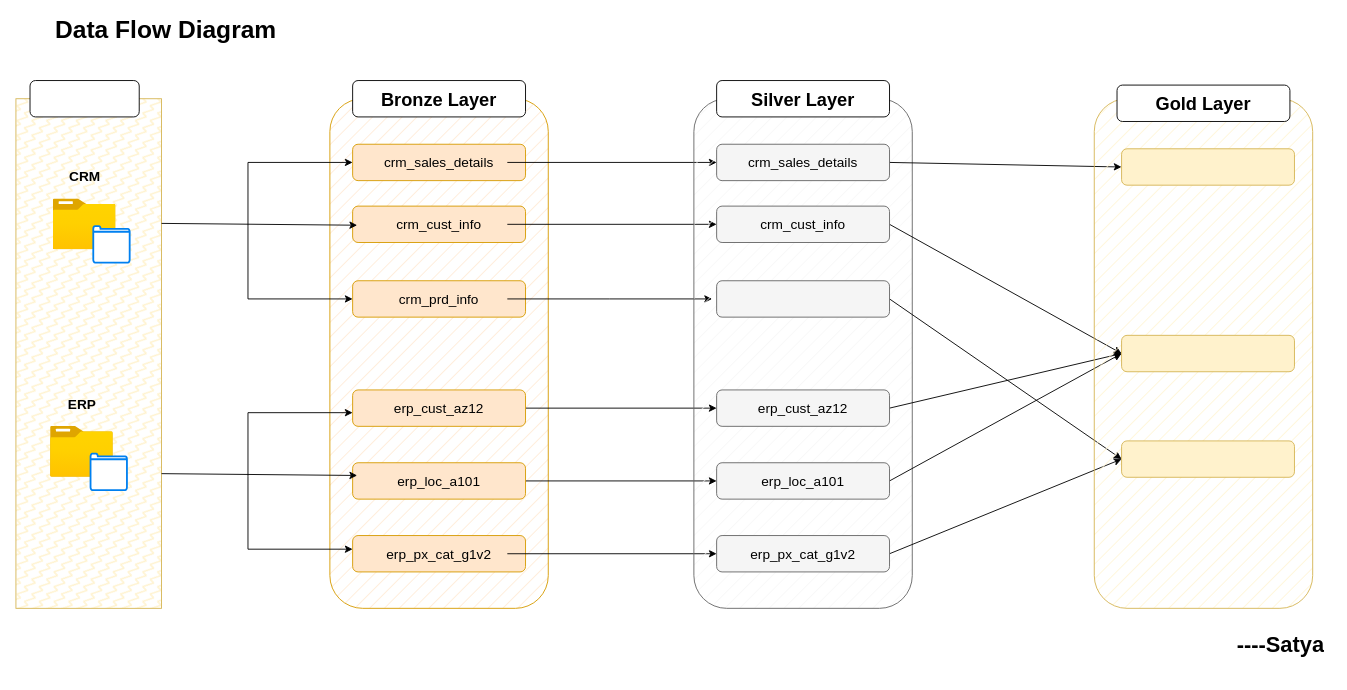
Image size: 1347x690. Some labels were removed from this diagram. The shapes that lost their labels are listed below. From the top down, each one's centre as x and y in pixels, then its label:
At (84,98): "SOURCES".
At (1207,166): "fact_sales".
At (803,298): "crm_prd_info".
At (1207,353): "dim_customers".
At (1207,458): "dim_products".
